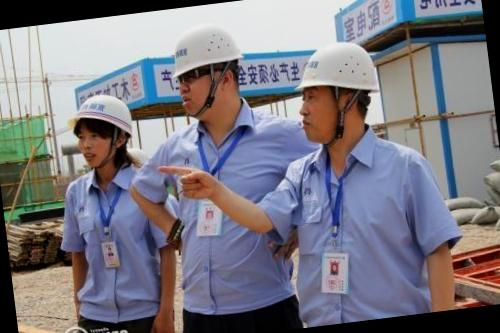helmet: (291, 38, 384, 108), (162, 21, 250, 84), (69, 90, 140, 150)
no_vest: (147, 109, 320, 309), (280, 137, 436, 322), (58, 164, 175, 320)
person: (257, 30, 450, 328), (135, 18, 312, 333), (48, 85, 181, 333)
